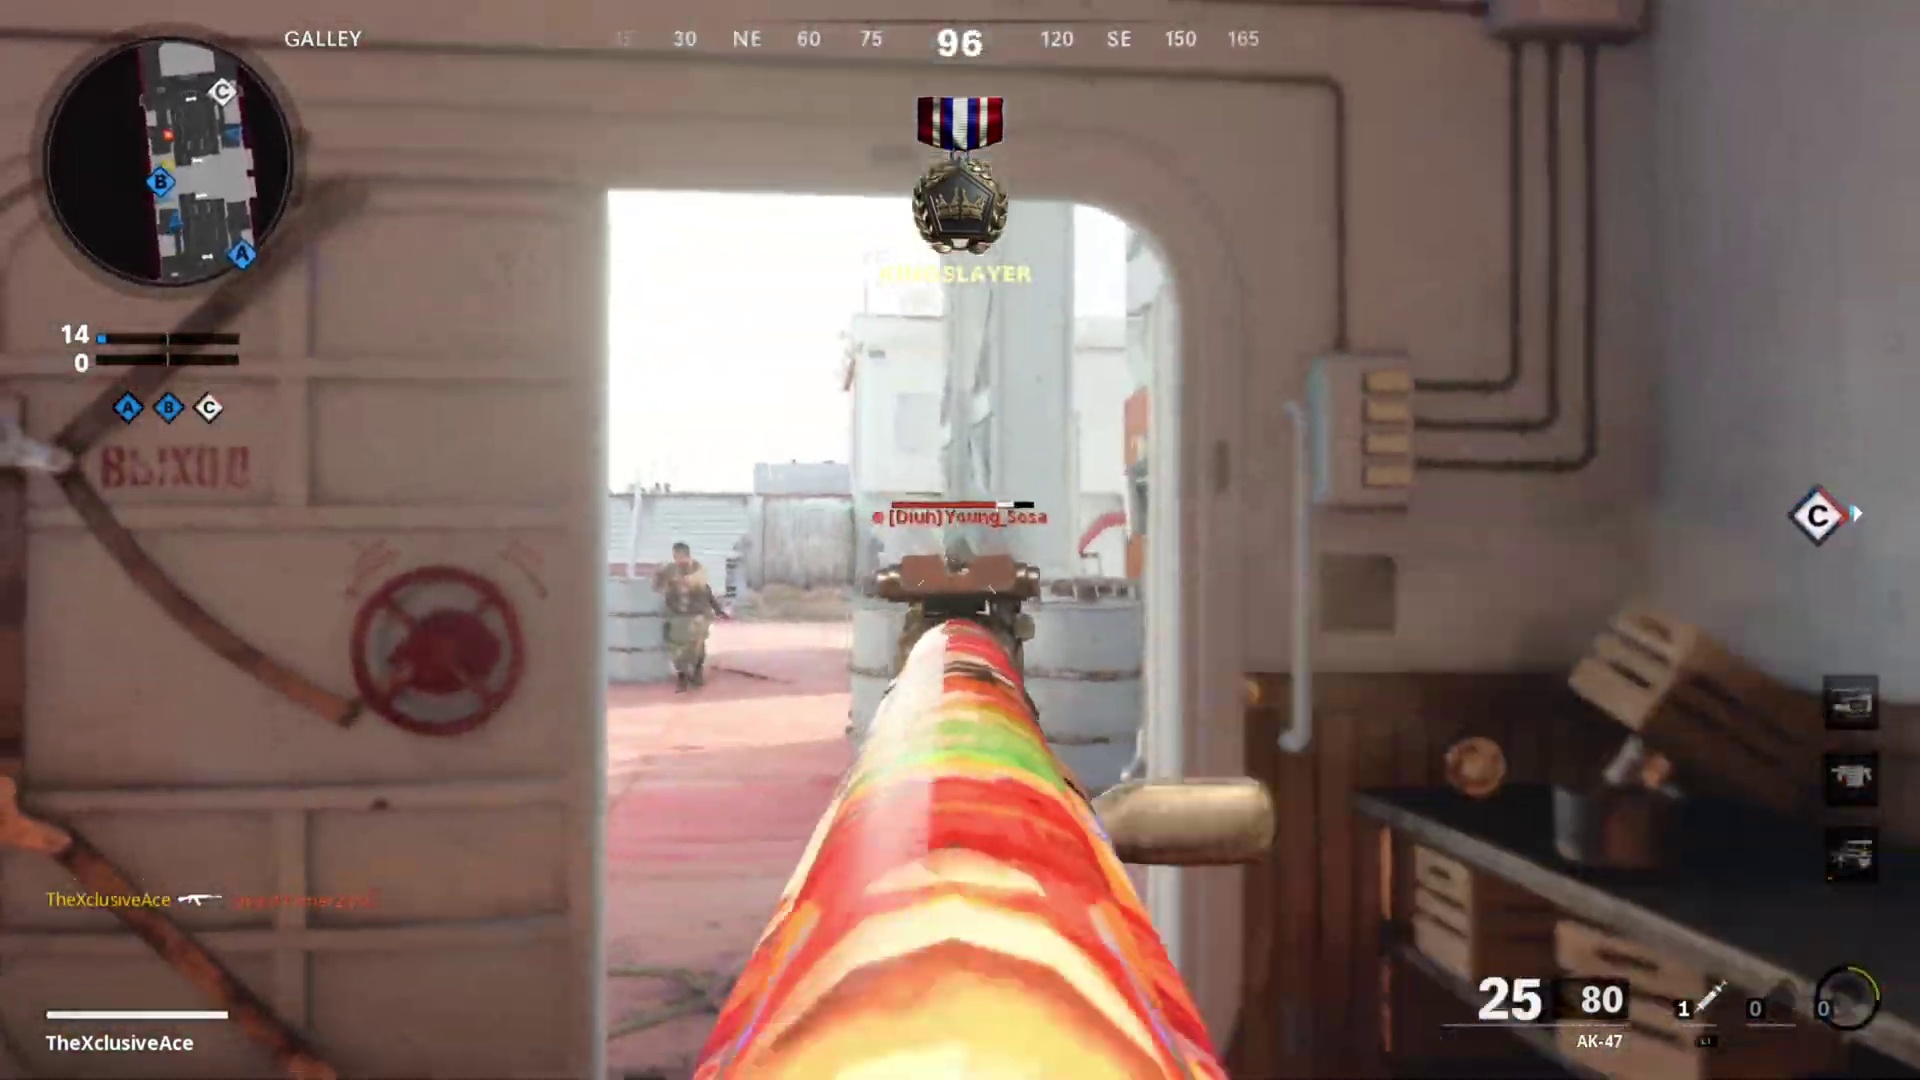head: (669, 538, 691, 575)
person: (647, 541, 725, 684)
